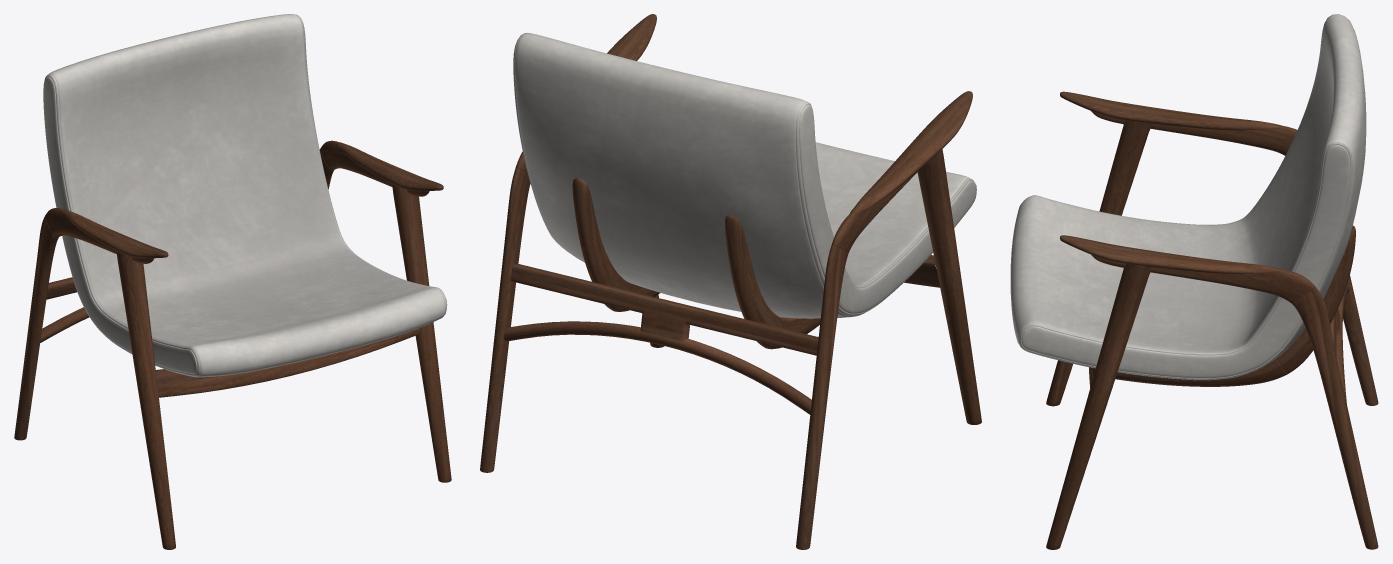
The picture shows the model from 3 angles, left to right: view 1: azimuth 30°, elevation 25°; view 2: azimuth 150°, elevation 25°; view 3: azimuth 270°, elevation 25°; orthographic projection. The views are drawn at different scales.
Parts seen in each view (by area): view 1: Seat Chair 150 Lounge, Legs Chair 150 Lounge; view 2: Seat Chair 150 Lounge, Legs Chair 150 Lounge; view 3: Seat Chair 150 Lounge, Legs Chair 150 Lounge.
Part boxes in pixels (x1,y1,x2,y2): Seat Chair 150 Lounge: (43,14,447,377); Legs Chair 150 Lounge: (14,140,451,549); Seat Chair 150 Lounge: (513,33,976,318); Legs Chair 150 Lounge: (480,14,981,549); Seat Chair 150 Lounge: (1010,14,1366,380); Legs Chair 150 Lounge: (1046,91,1378,549).
Bounding box in the file's own units: 0.7192 × 0.8567 × 0.7133.
Materials: 2 (2 with a texture image).
